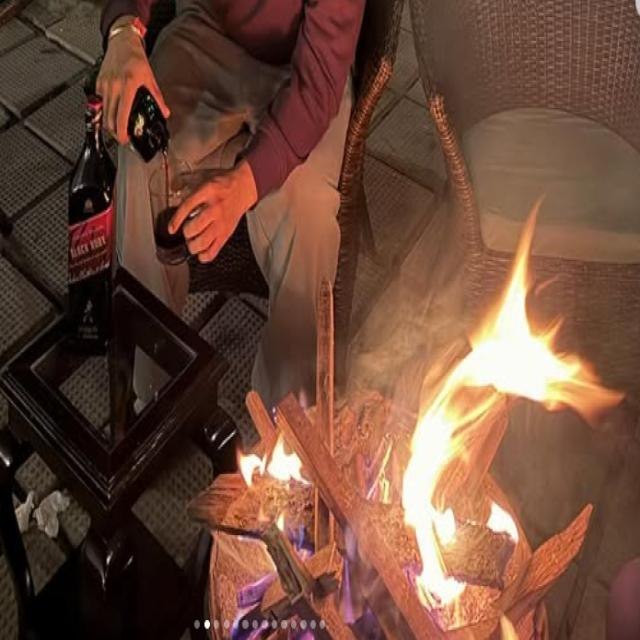fire: (402, 192, 626, 632), (238, 432, 310, 490)
